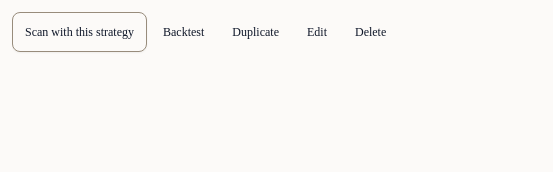
it: StrategyActions › cancels with the Cancel button
Click the button with aria-label "Delete: My setup": (371, 32) left=343, top=12, right=398, bottom=52
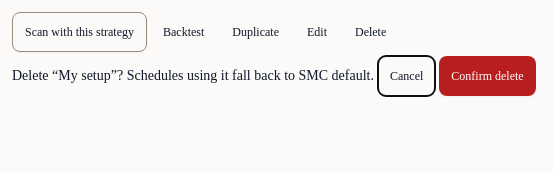
Click the button "Cancel": (407, 76) left=378, top=56, right=435, bottom=96
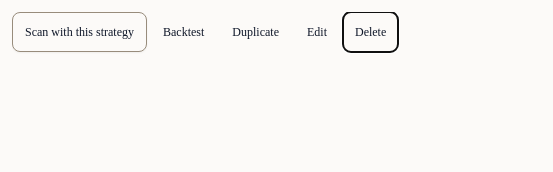
Expected: the button "Confirm delete" is gone
